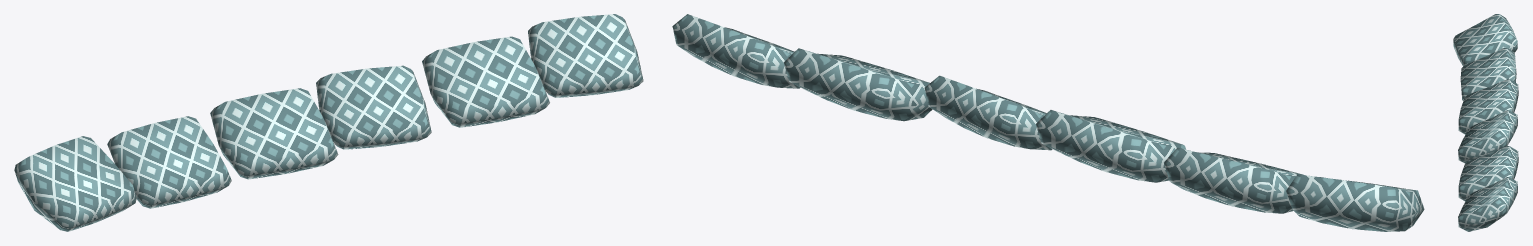
Rendered from DI_058_pillows_var02.glb.
3 views of the same model, side by side, from view 1: azimuth 30°, elevation 25°; view 2: azimuth 150°, elevation 25°; view 3: azimuth 270°, elevation 25° (orthographic). The views are drawn at different scales.
Visible parts, largest first — view 1: Pillow.014, Pillow.016, Pillow.015, Pillow.017, Pillow.012, Pillow.013; view 2: Pillow.016, Pillow.014, Pillow.013, Pillow.012, Pillow.015, Pillow.017; view 3: Pillow.013, Pillow.017, Pillow.016, Pillow.014, Pillow.015, Pillow.012.
Part boxes in pixels (bbox=[...]): Pillow.014: bbox=[210, 88, 338, 179]; Pillow.016: bbox=[422, 36, 549, 127]; Pillow.015: bbox=[316, 65, 431, 149]; Pillow.017: bbox=[528, 14, 643, 97]; Pillow.012: bbox=[107, 116, 231, 208]; Pillow.013: bbox=[14, 136, 136, 231]; Pillow.016: bbox=[783, 48, 932, 121]; Pillow.014: bbox=[1036, 110, 1185, 182]; Pillow.013: bbox=[1286, 174, 1424, 231]; Pillow.012: bbox=[1164, 147, 1304, 213]; Pillow.015: bbox=[924, 75, 1052, 150]; Pillow.017: bbox=[672, 14, 800, 88]; Pillow.013: bbox=[1453, 14, 1517, 66]; Pillow.017: bbox=[1458, 177, 1517, 231]; Pillow.016: bbox=[1458, 146, 1518, 201]; Pillow.014: bbox=[1458, 79, 1518, 134]; Pillow.015: bbox=[1458, 110, 1517, 163]; Pillow.012: bbox=[1460, 48, 1516, 100].
Bounding box in the file's own units: 4.32 × 0.4221 × 0.6183.
Materials: 1 (1 with a texture image).
